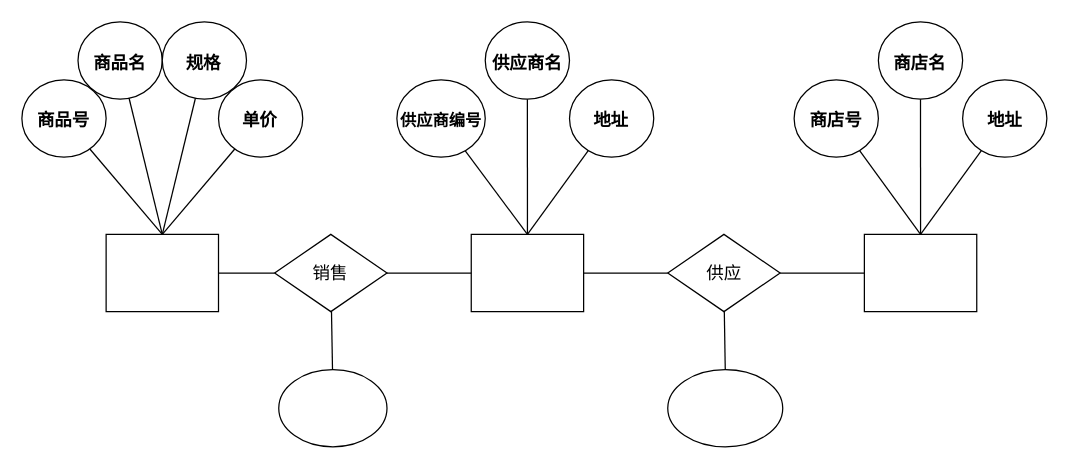
Some shapes in this 1069 by 470 pixel diagram are drawn without their labels. The shapes that lost their labels are listed below. From the top down, each one's centre as x and y in pixels, then its label:
At (161,272): "商品".
At (527,272): "供应商".
At (920,272): "商店".
At (332,407): "月计划数".
At (724,407): "月供应量".
